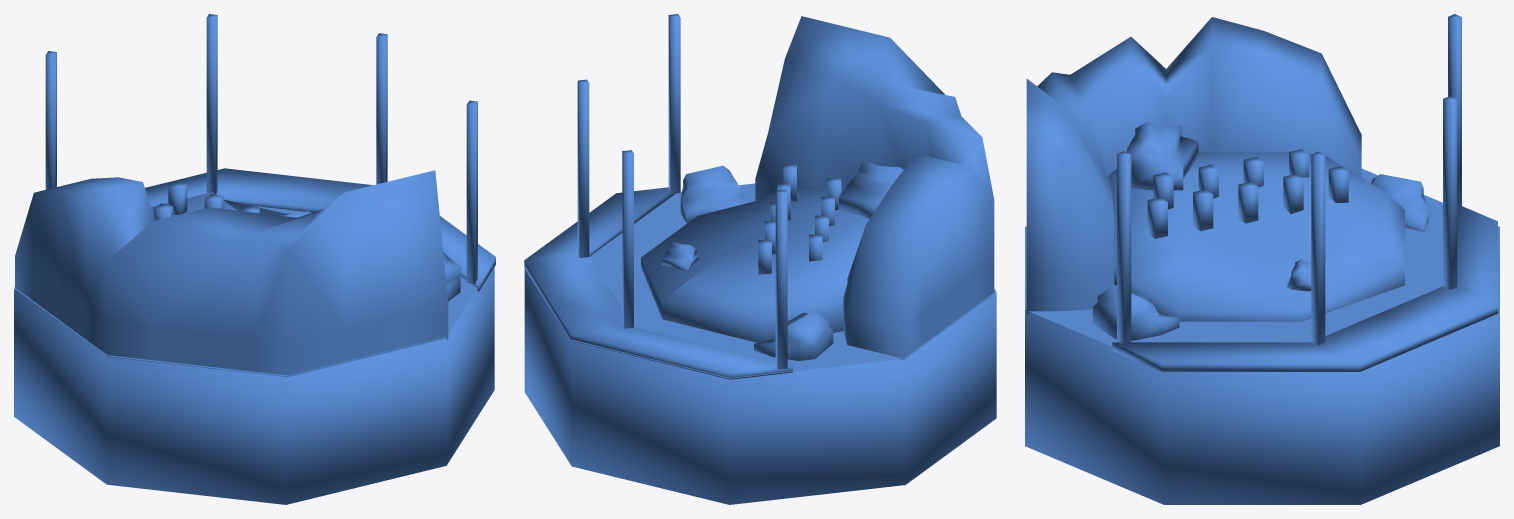
Rendered from Zoo_PenguinEnclosure.fbx.
3 renders of one model, left to right at view 1: azimuth 30°, elevation 25°; view 2: azimuth 150°, elevation 25°; view 3: azimuth 270°, elevation 25°, orthographic. The views are drawn at different scales.
Visible parts, largest first — view 1: Zoo_PenguinEnclosure; view 2: Zoo_PenguinEnclosure; view 3: Zoo_PenguinEnclosure.
Part boxes in pixels (x1,y1,x2,y2): Zoo_PenguinEnclosure: (14,14,495,504); Zoo_PenguinEnclosure: (524,14,996,504); Zoo_PenguinEnclosure: (1025,14,1499,504).
Size of the model in its own units: 631 by 482 by 630.
